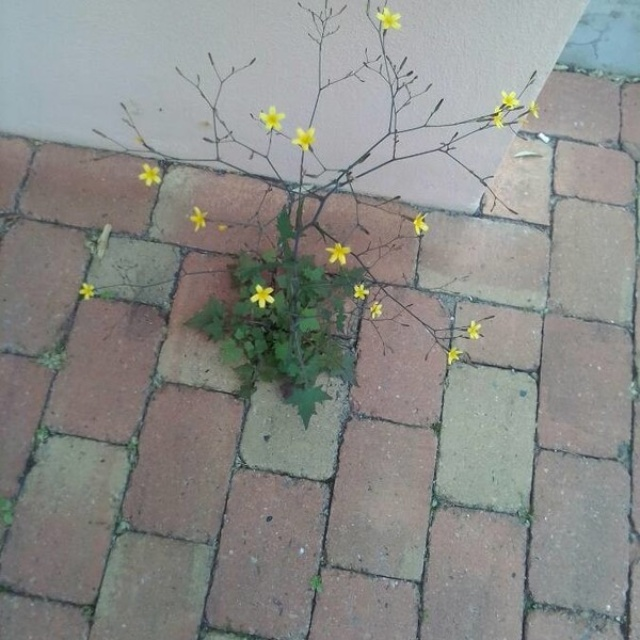obstacle: (99, 33, 548, 427)
